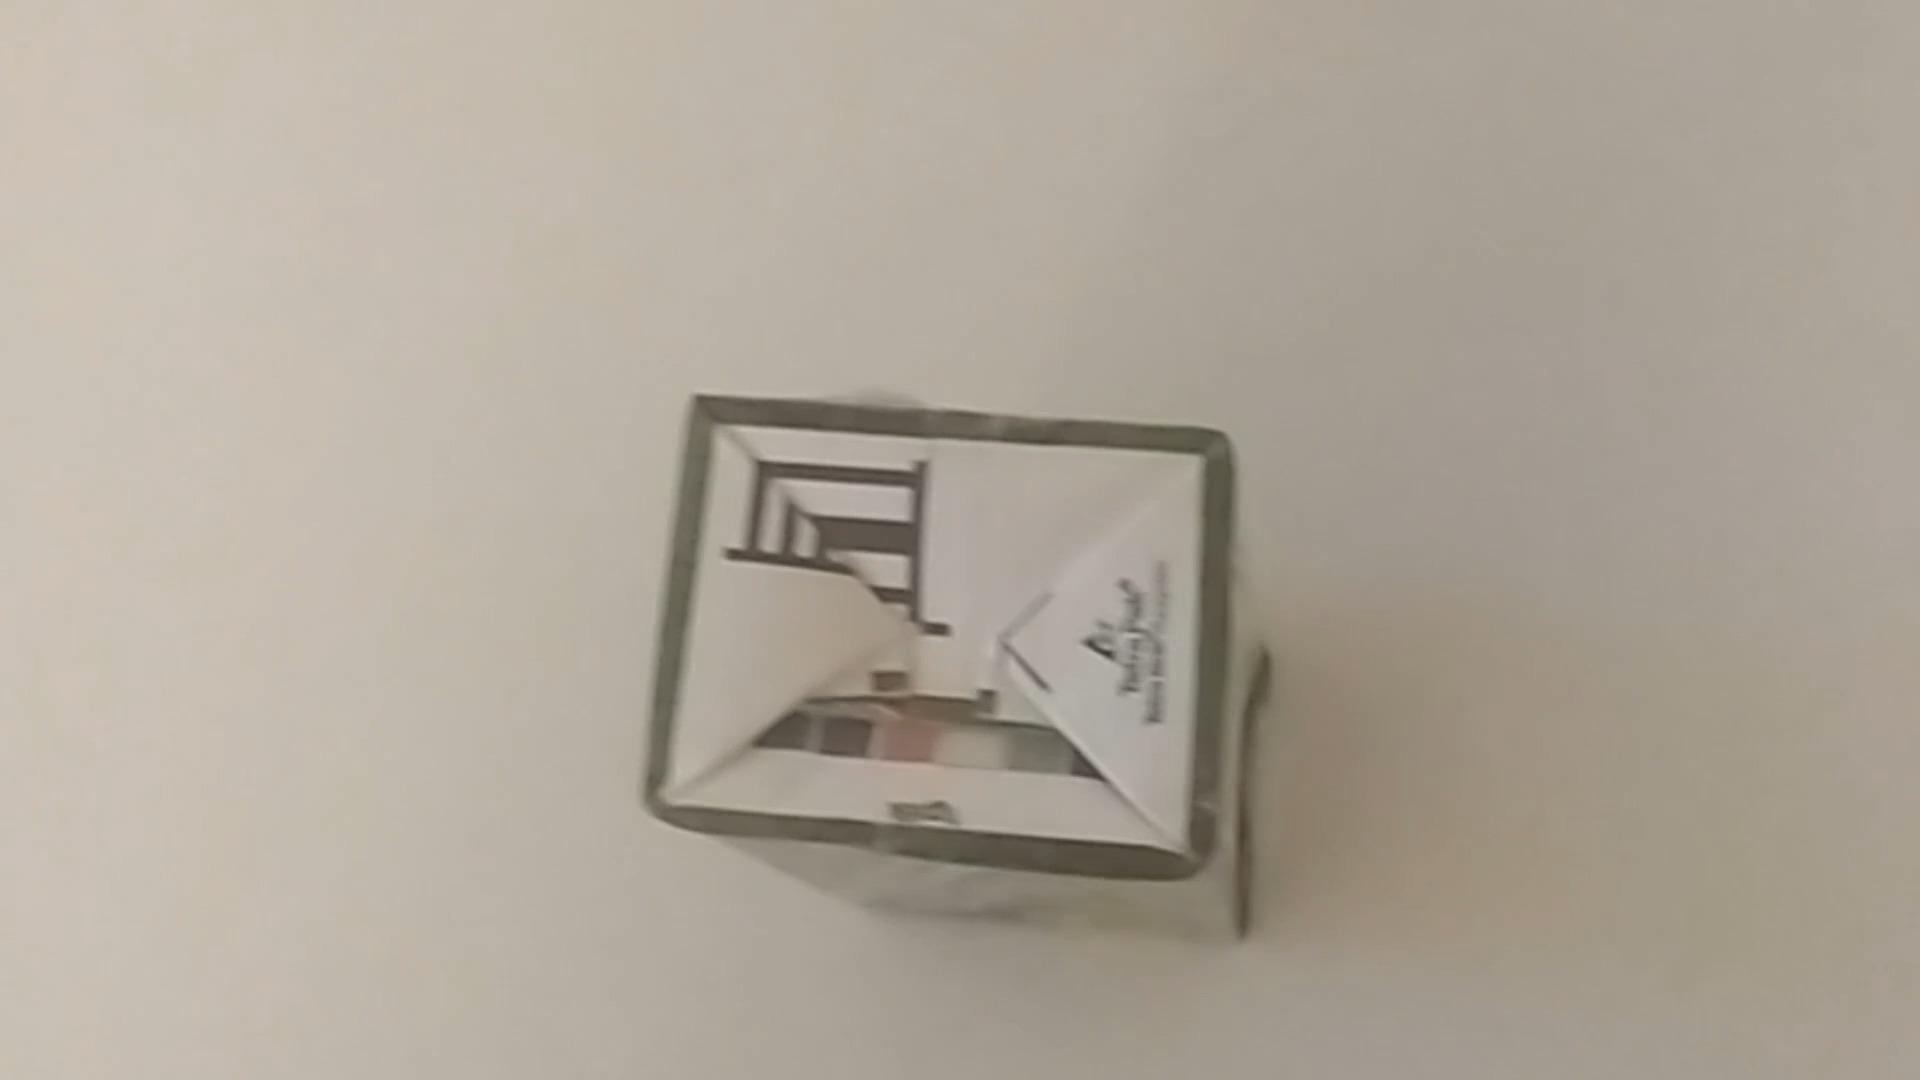coco: (637, 382, 1298, 949)
